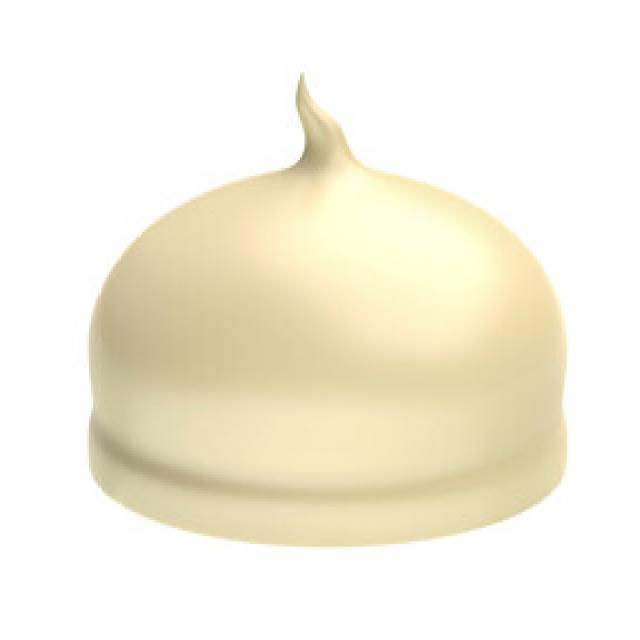Chocolate: (88, 64, 572, 552)
